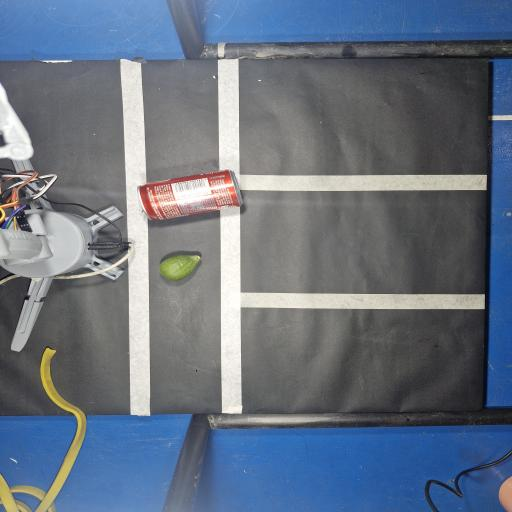higo: (159, 255, 200, 281)
lata: (138, 169, 243, 219)
